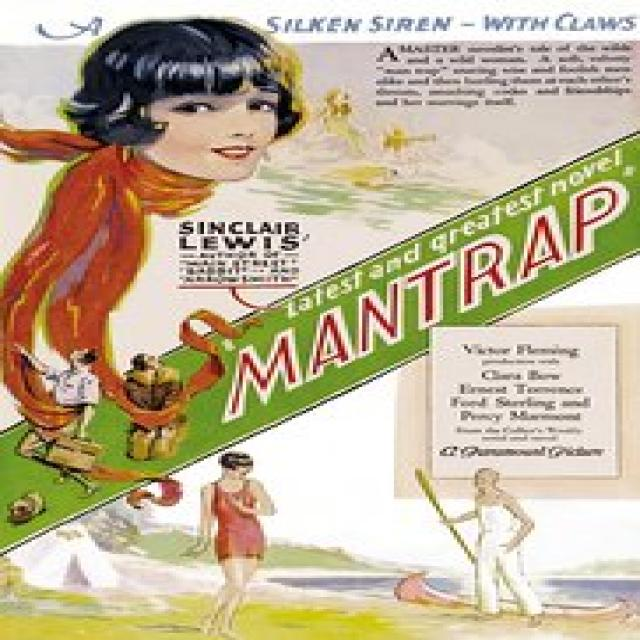movie-judul: (224, 180, 638, 425)
picture: (15, 27, 267, 340), (178, 450, 305, 614), (418, 468, 550, 618)
